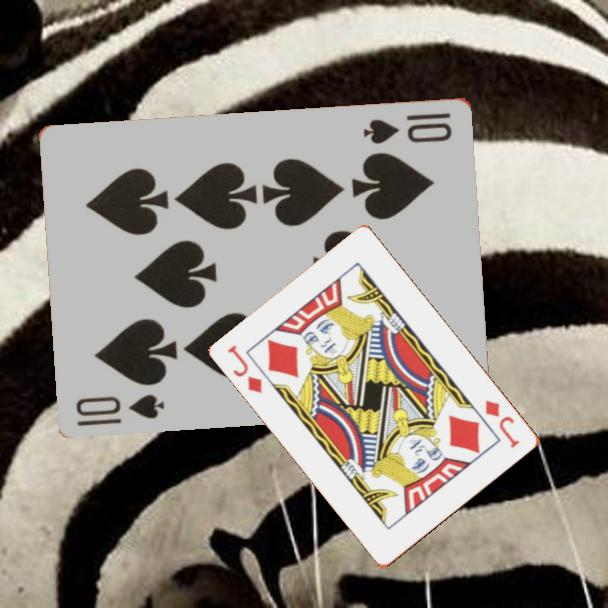d11: (224, 341, 266, 396), (482, 396, 523, 451)
s10: (73, 390, 167, 429), (360, 109, 456, 147)
